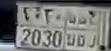0: (54, 13, 63, 49), (32, 14, 41, 47)
2: (20, 4, 31, 46)
3: (42, 6, 52, 48)
J: (88, 15, 99, 51)
